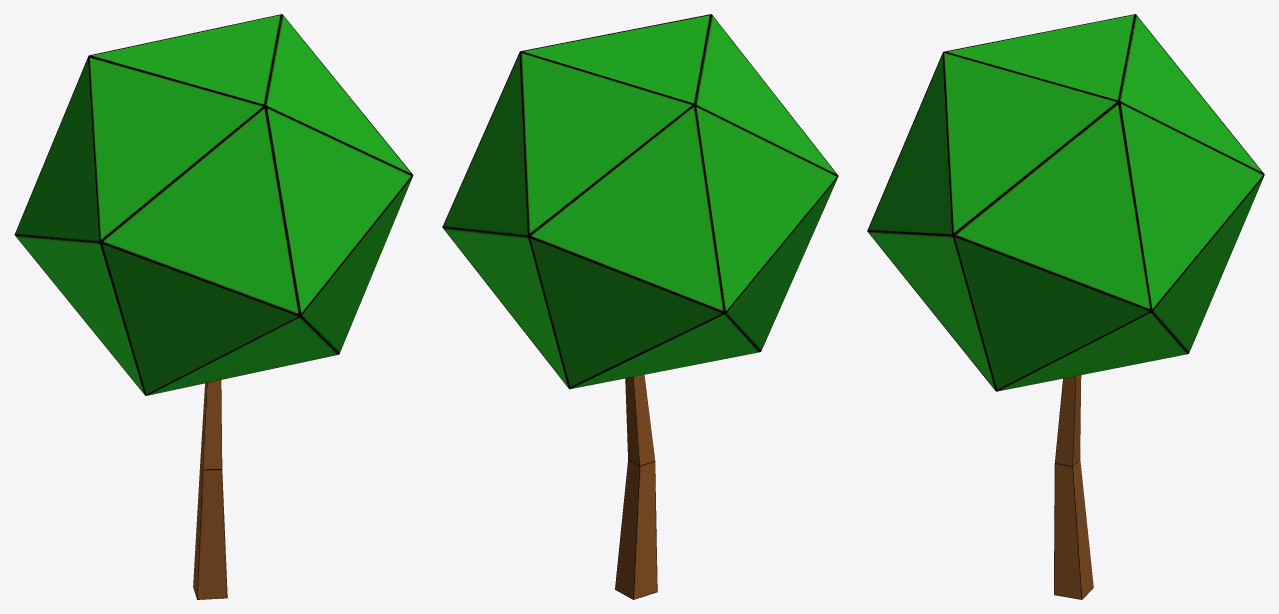
Rendered from Smalltree2.fbx.
3 views of the same model, side by side, from view 1: azimuth 30°, elevation 25°; view 2: azimuth 150°, elevation 25°; view 3: azimuth 270°, elevation 25° (orthographic).
Visible parts, largest first — view 1: Smalltree2; view 2: Smalltree2; view 3: Smalltree2.
Boxes of the visible parts, bbox=[...] form: Smalltree2: bbox=[14, 14, 413, 599]; Smalltree2: bbox=[442, 14, 838, 599]; Smalltree2: bbox=[867, 14, 1264, 599].
Bounding box in the file's own units: 159 × 260 × 175.
Materials: 1 (1 with a texture image).
